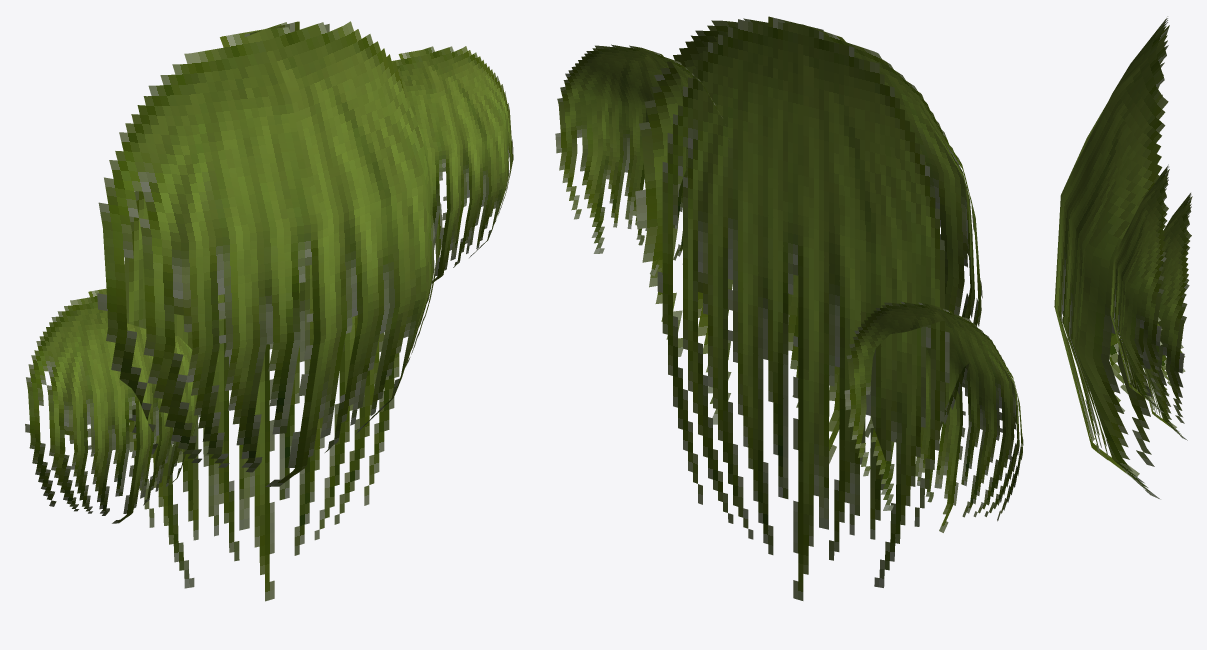
File: Side_grass01.fbx
3 renders of one model, left to right at view 1: azimuth 30°, elevation 25°; view 2: azimuth 150°, elevation 25°; view 3: azimuth 270°, elevation 25°, orthographic. The views are drawn at different scales.
Visible parts, largest first — view 1: Side_grass01, Side_grass03, Side_grass02; view 2: Side_grass01, Side_grass03, Side_grass02; view 3: Side_grass01, Side_grass02, Side_grass03.
Part boxes in pixels (<box>): Side_grass01: <box>97,21,442,601</box>; Side_grass03: <box>25,288,198,523</box>; Side_grass02: <box>391,46,513,283</box>; Side_grass01: <box>635,16,982,600</box>; Side_grass03: <box>844,301,1023,532</box>; Side_grass02: <box>555,44,722,276</box>; Side_grass01: <box>1054,16,1169,499</box>; Side_grass02: <box>1110,164,1169,412</box>; Side_grass03: <box>1144,193,1192,440</box>.
Size of the model in its own units: 0.4497 by 0.5389 by 0.1126.
